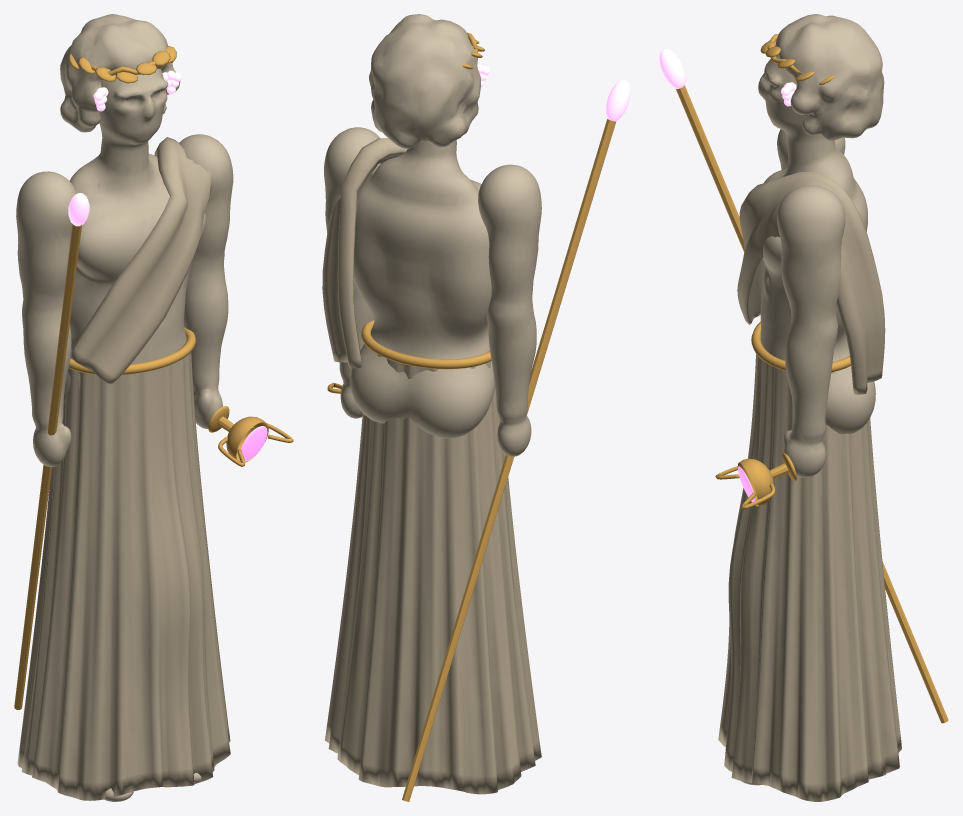
Rendered from dionysus.glb.
The picture shows the model from 3 angles, left to right: view 1: azimuth 30°, elevation 25°; view 2: azimuth 150°, elevation 25°; view 3: azimuth 270°, elevation 25°; orthographic projection.
Visible parts, largest first — view 1: Chiton_32@robe~2, Body_1@body, Nebris_34@chest~3, ArmR_3@armR, ArmL_2@armL, Hair_4@Head, Thyrsus_41@RightHand, Sash_33@Hips, Tool_35@LeftHand, Wine_36@LeftHand, Cone_42@RightHand; view 2: Chiton_32@robe~2, Body_1@body, ArmR_3@armR, Hair_4@Head, Nebris_34@chest~3, Thyrsus_41@RightHand, ArmL_2@armL, Sash_33@Hips, Cone_42@RightHand; view 3: Chiton_32@robe~2, ArmL_2@armL, Nebris_34@chest~3, Body_1@body, Hair_4@Head, Thyrsus_41@RightHand, Tool_35@LeftHand, Sash_33@Hips, Cone_42@RightHand.
Boxes of the visible parts, x1,y1,x2,y2 form: Chiton_32@robe~2: (17, 352, 230, 800); Body_1@body: (63, 68, 206, 801); Nebris_34@chest~3: (69, 137, 211, 384); ArmR_3@armR: (16, 171, 77, 467); ArmL_2@armL: (179, 134, 233, 428); Hair_4@Head: (60, 14, 180, 132); Thyrsus_41@RightHand: (14, 224, 81, 709); Sash_33@Hips: (68, 327, 195, 374); Tool_35@LeftHand: (226, 416, 268, 462); Wine_36@LeftHand: (240, 426, 267, 461); Cone_42@RightHand: (68, 193, 89, 226); Chiton_32@robe~2: (325, 354, 541, 794); Body_1@body: (350, 140, 495, 438); ArmR_3@armR: (478, 164, 541, 456); Hair_4@Head: (369, 14, 480, 148); Nebris_34@chest~3: (322, 138, 407, 368); Thyrsus_41@RightHand: (402, 119, 616, 801); ArmL_2@armL: (324, 127, 380, 418); Sash_33@Hips: (361, 320, 491, 369); Cone_42@RightHand: (606, 79, 630, 121); Chiton_32@robe~2: (718, 354, 901, 801); ArmL_2@armL: (777, 185, 845, 477); Nebris_34@chest~3: (737, 171, 885, 394); Body_1@body: (741, 55, 875, 785); Hair_4@Head: (775, 14, 884, 140); Thyrsus_41@RightHand: (676, 85, 948, 723); Tool_35@LeftHand: (738, 458, 773, 506); Sash_33@Hips: (751, 322, 850, 372); Cone_42@RightHand: (659, 48, 685, 88).
Size of the model in its own units: 0.6647 by 1.82 by 0.6424.
